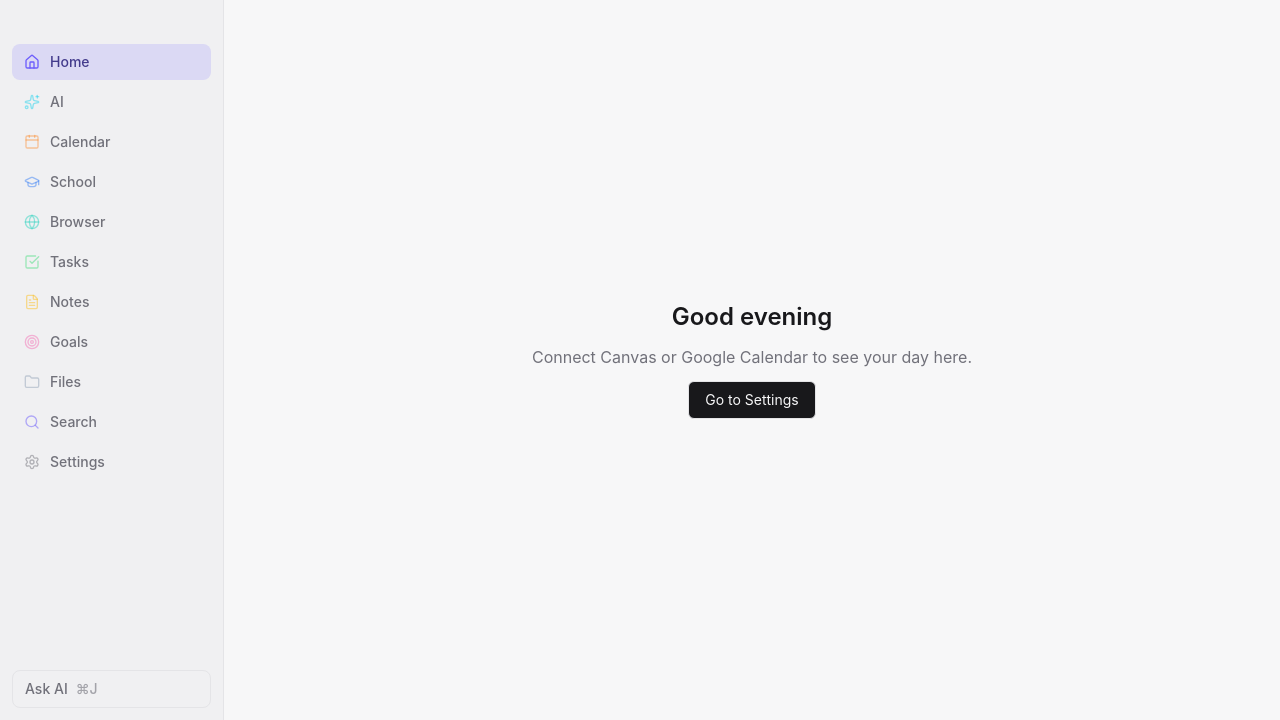
Test: App › shows Home by default and navigates to a placeholder section
The image size is (1280, 720).
Check: the heading "Good evening" is shown, box [672,301,832,333]
Step 1. Click the link "Tasks" → (56,262), box [24,253,89,270]
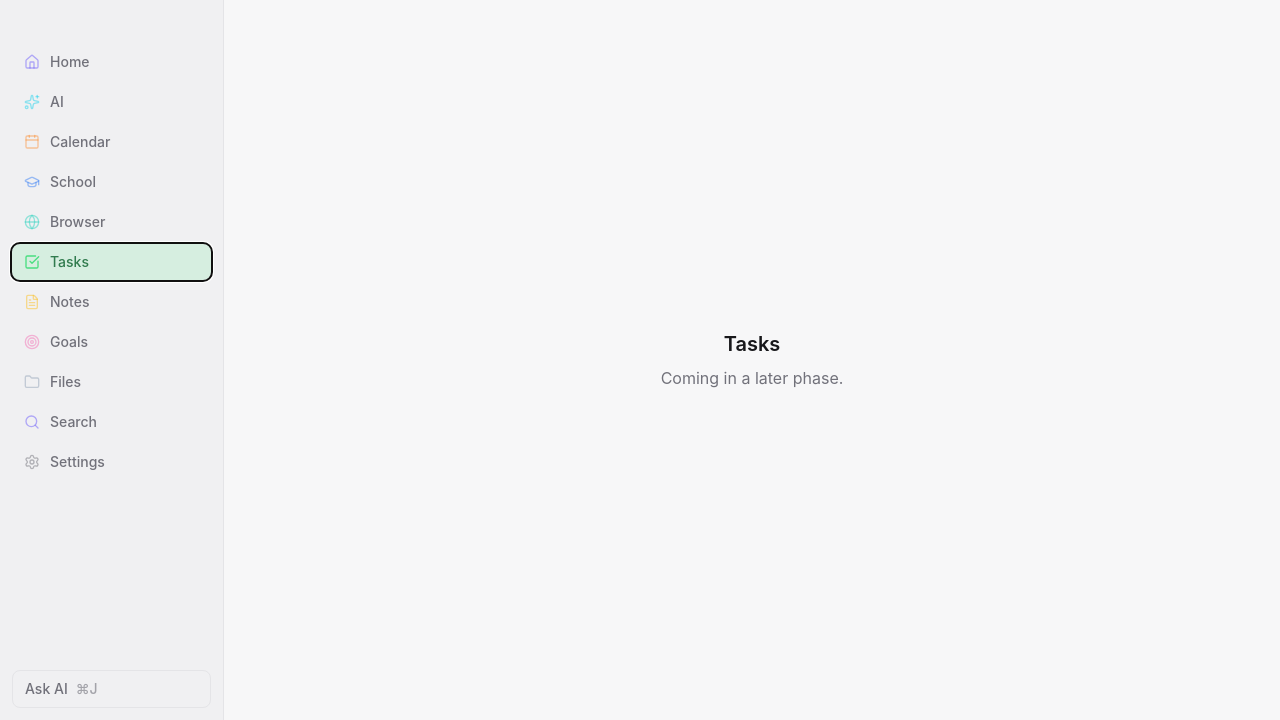
Check: the text "Coming in a later phase." is shown, box [661,366,843,390]
